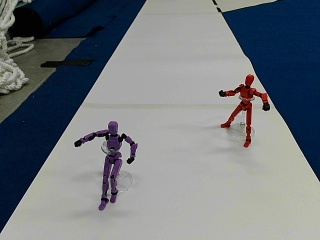pedestrian: (75, 120, 136, 207), (218, 72, 269, 146)
